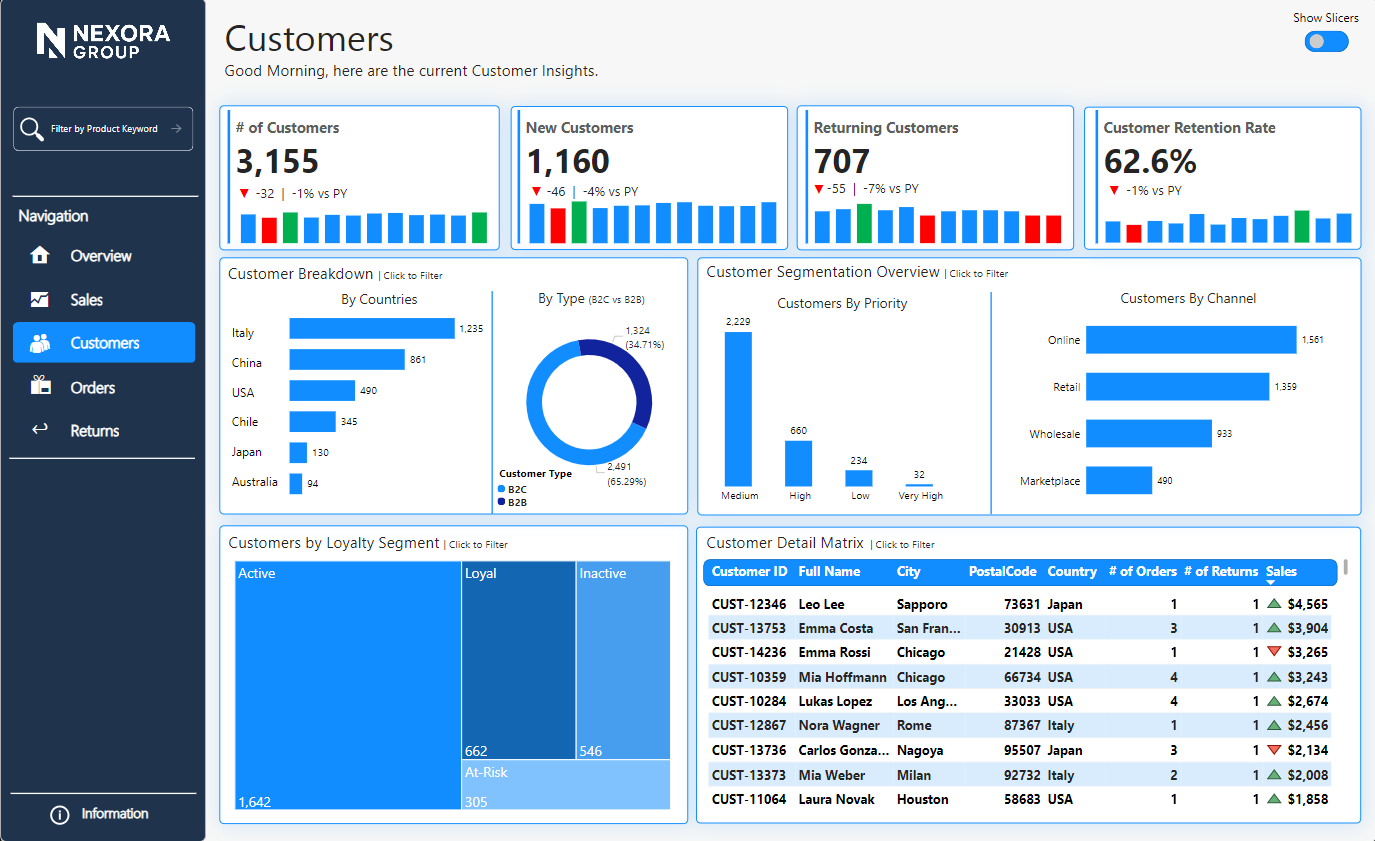

What the dashboard file says about the page in this screenshot:
{"tool":"powerbi","page":{"name":"Customers","canvas":[2240,1420],"ordinal":2},"visuals":[{"type":"group","id":"g1","title":"Group 10","box":[0,0,320,1403],"z":0,"group":"g18"},{"type":"shape","box":[0,0,320,1403],"z":0,"group":"g1"},{"type":"group","id":"g2","title":"Group 2","box":[2020.6,47.1,73.7,39.6],"z":0,"group":"g17"},{"type":"group","id":"g3","title":"Group 1","box":[2023.9,50.4,68.3,33.3],"z":0,"group":"g2"},{"type":"shape","box":[2023.9,50.4,68.3,33.3],"z":0,"group":"g3"},{"type":"shape","box":[21,168.7,279.3,68.5],"z":0,"group":"g16"},{"type":"card","fields":{"Values":["fact_orders.Returning_Customers_MoM_Diff"]},"box":[1224.9,273.4,259.2,48.3],"z":0,"group":"g9"},{"type":"card","fields":{"Values":["fact_orders.Customer_Churn_MoM_Diff"]},"box":[1699.9,275.9,180.3,48.3],"z":0,"group":"g12"},{"type":"card","fields":{"Values":["fact_orders.New_Customers_MoM_Diff"]},"box":[784.4,278.1,270.3,46.9],"z":0,"group":"g8"},{"type":"card","fields":{"Values":["fact_orders.Customer_MoM_Diff"]},"box":[343.2,279.7,248.8,51.2],"z":0,"group":"g7"},{"type":"textbox","box":[36.7,363.2,51.3,88.2],"z":0,"group":"g6"},{"type":"group","id":"g4","title":"Group 6","box":[349.2,442.9,405.7,358.5],"z":0,"group":"g10"},{"type":"pivotTable","fields":{"Rows":["dim_region.Country"],"Values":["Sum(fact_sales.NetSales)"]},"box":[349.2,442.9,392.3,358.5],"z":0,"group":"g4"},{"type":"clusteredBarChart","fields":{"Category":["dim_channel.ChannelName (4)"],"Y":["fact_orders.number_of_customers"]},"box":[1573.6,470.8,630.7,331.7],"z":0,"group":"g13"},{"type":"donutChart","fields":{"Y":["fact_orders.number_of_customers"],"Category":["dim_channel.ChannelName (3)"]},"box":[761.5,474.3,305.9,304.8],"z":0,"group":"g11"},{"type":"textbox","box":[769.5,721.2,125.5,31.8],"z":0,"group":"g14"},{"type":"shape","box":[340.1,817.3,726.5,586.2],"z":0},{"type":"textbox","box":[122.8,1245.7,162.8,50.2],"z":0,"group":"g15"},{"type":"textbox","box":[122.1,1331,162.8,50.2],"z":0,"group":"g5"},{"type":"textbox","box":[2001.1,13.1,113.3,37.8],"z":1000,"group":"g17"},{"type":"image","box":[18,27.7,282.3,95.2],"z":1000,"group":"g1"},{"type":"actionButton","box":[2020.6,47.1,75,40],"z":1000,"group":"g2"},{"type":"shape","box":[2031.1,55.4,22.8,22.8],"z":1000,"group":"g3"},{"type":"image","box":[23.2,177,54.3,53.9],"z":1000,"group":"g16"},{"type":"card","fields":{"Values":["fact_orders.Returning_Customers_MoM_Arrow"]},"box":[1236.1,275,70.3,46.3],"z":1000,"group":"g9"},{"type":"card","fields":{"Values":["fact_orders.Customer_Churn_MoM_Arrow"]},"box":[1695.1,277.9,67.7,44.6],"z":1000,"group":"g12"},{"type":"card","fields":{"Values":["fact_orders.New_Customers_MoM_Arrow"]},"box":[799,278.7,68.7,44.3],"z":1000,"group":"g8"},{"type":"card","fields":{"Values":["fact_orders.Customer_MoM_Arrow"]},"box":[345.4,281.4,67.8,47.8],"z":1000,"group":"g7"},{"type":"textbox","box":[18,306,162,50],"z":1000,"group":"g18"},{"type":"textbox","box":[1781.2,445.8,324.3,44.3],"z":1000,"group":"g13"},{"type":"textbox","box":[811.6,445.9,213.2,50.1],"z":1000,"group":"g11"},{"type":"textbox","box":[509.1,448,150.7,49.3],"z":1000,"group":"g10"},{"type":"textbox","box":[36.7,461,51.3,71.1],"z":1000,"group":"g6"},{"type":"clusteredBarChart","fields":{"Category":["dim_region.Country"],"Y":["fact_orders.number_of_customers"]},"box":[444.2,484.8,310.7,293],"z":1000,"group":"g4"},{"type":"shape","box":[771.5,755.7,12.2,12.6],"z":1000,"group":"g14"},{"type":"shape","box":[1079.9,820.6,1145.9,582.9],"z":1000},{"type":"actionButton","box":[72.7,1247.4,39.8,39.8],"z":1000,"group":"g15"},{"type":"actionButton","box":[72,1332.7,39.8,39.8],"z":1000,"group":"g5"},{"type":"actionButton","box":[2015.6,44.8,79.1,41.4],"z":2000,"group":"g17"},{"type":"textSlicer","fields":{"Values":["dim_product.Product.Category"]},"box":[66.7,182.4,232.1,37.9],"z":2000,"group":"g16"},{"type":"pageNavigator","box":[21,357.9,286.3,525.5],"z":2000,"group":"g1"},{"type":"textbox","box":[36.7,544.1,51.3,88.2],"z":2000,"group":"g6"},{"type":"textbox","box":[779.2,745.3,46,54.8],"z":2000,"group":"g14"},{"type":"textbox","box":[1091.2,823.1,471.1,48.9],"z":2000},{"type":"group","id":"g5","title":"Group 11","box":[72,1331,212.9,50.2],"z":2000,"group":"g18"},{"type":"shape","box":[1235.9,166,431.2,224.4],"z":3000},{"type":"group","id":"g6","title":"Group 9","box":[36.7,363.2,54.1,454],"z":3000,"group":"g1"},{"type":"textbox","box":[38.1,627.7,52.7,97.8],"z":3000,"group":"g6"},{"type":"textbox","box":[779,765.3,46,36],"z":3000,"group":"g14"},{"type":"textbox","box":[38.1,723.9,49.9,93.3],"z":4000,"group":"g6"},{"type":"shape","box":[771.3,774.5,12.5,12.5],"z":4000,"group":"g14"},{"type":"shape","box":[1091.7,870.9,983.8,41.5],"z":4000},{"type":"shape","box":[792,167.1,430,223.3],"z":5000},{"type":"actionButton","box":[1959.6,431.1,39.6,39.6],"z":6000},{"type":"tableEx","fields":{"Values":["dim_customer.CustomerID","dim_customer.FullName","dim_customer.City","dim_customer.PostalCode","dim_customer.Country (2)","fact_orders.number_of_orders","fact_returns.number_of_returns","Sum(fact_orders.OrderAmount)"]},"box":[1093.1,863.6,1111.2,528.4],"z":7000},{"type":"shape","box":[340.3,166,435.1,224.4],"z":8000},{"type":"shape","box":[340.2,402.7,727.1,399.4],"z":10000},{"type":"shape","box":[1081.5,401.2,1144.3,401.2],"z":11000},{"type":"shape","box":[1682.3,168.4,430,222],"z":12000},{"type":"cardVisual","fields":{"Data":["fact_orders.number_of_customers"]},"box":[348.8,173.6,336.6,212.2],"z":13000},{"type":"cardVisual","fields":{"Data":["fact_orders.New Customers"]},"box":[798.8,173.6,334.8,212.2],"z":14000},{"type":"cardVisual","fields":{"Data":["fact_orders.Returning Customers"]},"box":[1245.1,173.6,338.4,212.2],"z":15000},{"type":"treemap","fields":{"Group":["dim_customer.LoyaltyStatus (2)"],"Values":["fact_orders.number_of_customers"]},"box":[360,868.5,685.2,511.9],"z":16000},{"type":"group","id":"g7","title":"Group 1","box":[343.2,279.7,248.8,51.2],"z":17000},{"type":"cardVisual","fields":{"Data":["fact_orders.Customer_Retention_Rate"]},"box":[1695.1,173.8,336.6,212],"z":18000},{"type":"textbox","box":[348.8,402.7,393.3,53.4],"z":19000},{"type":"group","id":"g8","title":"Group 2","box":[784.4,278.1,268.9,45.7],"z":20000},{"type":"group","id":"g9","title":"Group 3","box":[1224.9,273.4,259.2,48.3],"z":21000},{"type":"group","id":"g10","title":"Group 7","box":[349.2,442.9,405.7,358.5],"z":22000},{"type":"group","id":"g11","title":"Group 9","box":[761.5,445.9,305.9,333.2],"z":23000},{"type":"clusteredColumnChart","fields":{"Category":["dim_customer.Customer_Value_Category"],"Y":["fact_orders.number_of_customers"]},"box":[1087.1,478.4,402.4,311],"z":24000},{"type":"textbox","box":[349.3,823.4,596,45.7],"z":25000},{"type":"group","id":"g12","title":"Group 4","box":[1695.1,275.9,185.1,48.3],"z":26000},{"type":"textbox","box":[1091.7,402.2,497,44.2],"z":28000},{"type":"shape","box":[1520.1,456.5,34.5,344.5],"z":29000},{"type":"shape","box":[746.5,455.6,33.6,345.5],"z":30000},{"type":"group","id":"g13","title":"Group 10","box":[1573.6,445.8,630.7,356.7],"z":31000},{"type":"textbox","box":[342.9,17.7,743.7,125.6],"z":32000},{"type":"group","id":"g14","title":"Group 8","box":[769.5,721.2,125.6,80.5],"z":33000},{"type":"textbox","box":[1200.9,454,249.5,43.5],"z":34000},{"type":"shape","box":[14,698,288,32],"z":35000},{"type":"shape","box":[20,292,288,32],"z":36000},{"type":"group","id":"g15","title":"Group 11","box":[72.7,1245.7,212.9,50.2],"z":37000},{"type":"group","id":"g16","title":"Group 14","box":[21,168.7,279.3,68.5],"z":38000},{"type":"clusteredColumnChart","fields":{"Category":["dim_date.Month Name"],"Y":["fact_orders.number_of_customers"]},"box":[369.6,300.7,392.2,85.9],"z":39000},{"type":"clusteredColumnChart","fields":{"Category":["dim_date.Month Name"],"Y":["fact_orders.New Customers"]},"box":[816.8,301.9,393.3,85],"z":40000},{"type":"clusteredColumnChart","fields":{"Category":["dim_date.Month Name"],"Y":["fact_orders.Returning Customers"]},"box":[1260.2,301.1,392.5,85.8],"z":41000},{"type":"clusteredColumnChart","fields":{"Category":["dim_date.Month Name"],"Y":["fact_orders.Customer_Retention_Rate"]},"box":[1710.3,301.8,392,84],"z":42000},{"type":"group","id":"g17","title":"Group 13","box":[2001.1,13.1,113.3,73.6],"z":43000},{"type":"group","id":"g18","title":"Group 12","box":[0,0,320,1403],"z":45000}]}

Visuals, with their boxes on the page's 2240x1420 design canvas (x1, y1, x2, y2). These are canvas units, not pixel positions in the 1375x841 screenshot, which may show the page scaled, cropped or inside an application window:
"Group 10" group: {"left": 0, "top": 0, "right": 320, "bottom": 1403}
shape: {"left": 0, "top": 0, "right": 320, "bottom": 1403}
"Group 2" group: {"left": 2021, "top": 47, "right": 2094, "bottom": 87}
"Group 1" group: {"left": 2024, "top": 50, "right": 2092, "bottom": 84}
shape: {"left": 2024, "top": 50, "right": 2092, "bottom": 84}
shape: {"left": 21, "top": 169, "right": 300, "bottom": 237}
card - fact_orders.Returning_Customers_MoM_Diff: {"left": 1225, "top": 273, "right": 1484, "bottom": 322}
card - fact_orders.Customer_Churn_MoM_Diff: {"left": 1700, "top": 276, "right": 1880, "bottom": 324}
card - fact_orders.New_Customers_MoM_Diff: {"left": 784, "top": 278, "right": 1055, "bottom": 325}
card - fact_orders.Customer_MoM_Diff: {"left": 343, "top": 280, "right": 592, "bottom": 331}
textbox: {"left": 37, "top": 363, "right": 88, "bottom": 451}
"Group 6" group: {"left": 349, "top": 443, "right": 755, "bottom": 801}
pivotTable - dim_region.Country x Sum(fact_sales.NetSales): {"left": 349, "top": 443, "right": 742, "bottom": 801}
clusteredBarChart - dim_channel.ChannelName (4) x fact_orders.number_of_customers: {"left": 1574, "top": 471, "right": 2204, "bottom": 802}
donutChart - fact_orders.number_of_customers x dim_channel.ChannelName (3): {"left": 762, "top": 474, "right": 1067, "bottom": 779}
textbox: {"left": 770, "top": 721, "right": 895, "bottom": 753}
shape: {"left": 340, "top": 817, "right": 1067, "bottom": 1404}
textbox: {"left": 123, "top": 1246, "right": 286, "bottom": 1296}
textbox: {"left": 122, "top": 1331, "right": 285, "bottom": 1381}
textbox: {"left": 2001, "top": 13, "right": 2114, "bottom": 51}
image: {"left": 18, "top": 28, "right": 300, "bottom": 123}
actionButton: {"left": 2021, "top": 47, "right": 2096, "bottom": 87}
shape: {"left": 2031, "top": 55, "right": 2054, "bottom": 78}
image: {"left": 23, "top": 177, "right": 78, "bottom": 231}
card - fact_orders.Returning_Customers_MoM_Arrow: {"left": 1236, "top": 275, "right": 1306, "bottom": 321}
card - fact_orders.Customer_Churn_MoM_Arrow: {"left": 1695, "top": 278, "right": 1763, "bottom": 322}
card - fact_orders.New_Customers_MoM_Arrow: {"left": 799, "top": 279, "right": 868, "bottom": 323}
card - fact_orders.Customer_MoM_Arrow: {"left": 345, "top": 281, "right": 413, "bottom": 329}
textbox: {"left": 18, "top": 306, "right": 180, "bottom": 356}
textbox: {"left": 1781, "top": 446, "right": 2106, "bottom": 490}
textbox: {"left": 812, "top": 446, "right": 1025, "bottom": 496}
textbox: {"left": 509, "top": 448, "right": 660, "bottom": 497}
textbox: {"left": 37, "top": 461, "right": 88, "bottom": 532}
clusteredBarChart - dim_region.Country x fact_orders.number_of_customers: {"left": 444, "top": 485, "right": 755, "bottom": 778}
shape: {"left": 772, "top": 756, "right": 784, "bottom": 768}
shape: {"left": 1080, "top": 821, "right": 2226, "bottom": 1404}
actionButton: {"left": 73, "top": 1247, "right": 112, "bottom": 1287}
actionButton: {"left": 72, "top": 1333, "right": 112, "bottom": 1372}
actionButton: {"left": 2016, "top": 45, "right": 2095, "bottom": 86}
textSlicer - dim_product.Product.Category: {"left": 67, "top": 182, "right": 299, "bottom": 220}
pageNavigator: {"left": 21, "top": 358, "right": 307, "bottom": 883}
textbox: {"left": 37, "top": 544, "right": 88, "bottom": 632}
textbox: {"left": 779, "top": 745, "right": 825, "bottom": 800}
textbox: {"left": 1091, "top": 823, "right": 1562, "bottom": 872}
"Group 11" group: {"left": 72, "top": 1331, "right": 285, "bottom": 1381}
shape: {"left": 1236, "top": 166, "right": 1667, "bottom": 390}
"Group 9" group: {"left": 37, "top": 363, "right": 91, "bottom": 817}
textbox: {"left": 38, "top": 628, "right": 91, "bottom": 726}
textbox: {"left": 779, "top": 765, "right": 825, "bottom": 801}
textbox: {"left": 38, "top": 724, "right": 88, "bottom": 817}
shape: {"left": 771, "top": 774, "right": 784, "bottom": 787}
shape: {"left": 1092, "top": 871, "right": 2076, "bottom": 912}
shape: {"left": 792, "top": 167, "right": 1222, "bottom": 390}
actionButton: {"left": 1960, "top": 431, "right": 1999, "bottom": 471}
tableEx - dim_customer.CustomerID x dim_customer.FullName: {"left": 1093, "top": 864, "right": 2204, "bottom": 1392}
shape: {"left": 340, "top": 166, "right": 775, "bottom": 390}
shape: {"left": 340, "top": 403, "right": 1067, "bottom": 802}
shape: {"left": 1082, "top": 401, "right": 2226, "bottom": 802}
shape: {"left": 1682, "top": 168, "right": 2112, "bottom": 390}
cardVisual - fact_orders.number_of_customers: {"left": 349, "top": 174, "right": 685, "bottom": 386}
cardVisual - fact_orders.New Customers: {"left": 799, "top": 174, "right": 1134, "bottom": 386}
cardVisual - fact_orders.Returning Customers: {"left": 1245, "top": 174, "right": 1584, "bottom": 386}
treemap - dim_customer.LoyaltyStatus (2) x fact_orders.number_of_customers: {"left": 360, "top": 868, "right": 1045, "bottom": 1380}
"Group 1" group: {"left": 343, "top": 280, "right": 592, "bottom": 331}
cardVisual - fact_orders.Customer_Retention_Rate: {"left": 1695, "top": 174, "right": 2032, "bottom": 386}
textbox: {"left": 349, "top": 403, "right": 742, "bottom": 456}
"Group 2" group: {"left": 784, "top": 278, "right": 1053, "bottom": 324}
"Group 3" group: {"left": 1225, "top": 273, "right": 1484, "bottom": 322}
"Group 7" group: {"left": 349, "top": 443, "right": 755, "bottom": 801}
"Group 9" group: {"left": 762, "top": 446, "right": 1067, "bottom": 779}
clusteredColumnChart - dim_customer.Customer_Value_Category x fact_orders.number_of_customers: {"left": 1087, "top": 478, "right": 1490, "bottom": 789}
textbox: {"left": 349, "top": 823, "right": 945, "bottom": 869}
"Group 4" group: {"left": 1695, "top": 276, "right": 1880, "bottom": 324}
textbox: {"left": 1092, "top": 402, "right": 1589, "bottom": 446}
shape: {"left": 1520, "top": 456, "right": 1555, "bottom": 801}
shape: {"left": 746, "top": 456, "right": 780, "bottom": 801}
"Group 10" group: {"left": 1574, "top": 446, "right": 2204, "bottom": 802}
textbox: {"left": 343, "top": 18, "right": 1087, "bottom": 143}
"Group 8" group: {"left": 770, "top": 721, "right": 895, "bottom": 802}
textbox: {"left": 1201, "top": 454, "right": 1450, "bottom": 498}
shape: {"left": 14, "top": 698, "right": 302, "bottom": 730}
shape: {"left": 20, "top": 292, "right": 308, "bottom": 324}
"Group 11" group: {"left": 73, "top": 1246, "right": 286, "bottom": 1296}
"Group 14" group: {"left": 21, "top": 169, "right": 300, "bottom": 237}
clusteredColumnChart - dim_date.Month Name x fact_orders.number_of_customers: {"left": 370, "top": 301, "right": 762, "bottom": 387}
clusteredColumnChart - dim_date.Month Name x fact_orders.New Customers: {"left": 817, "top": 302, "right": 1210, "bottom": 387}
clusteredColumnChart - dim_date.Month Name x fact_orders.Returning Customers: {"left": 1260, "top": 301, "right": 1653, "bottom": 387}
clusteredColumnChart - dim_date.Month Name x fact_orders.Customer_Retention_Rate: {"left": 1710, "top": 302, "right": 2102, "bottom": 386}
"Group 13" group: {"left": 2001, "top": 13, "right": 2114, "bottom": 87}
"Group 12" group: {"left": 0, "top": 0, "right": 320, "bottom": 1403}
